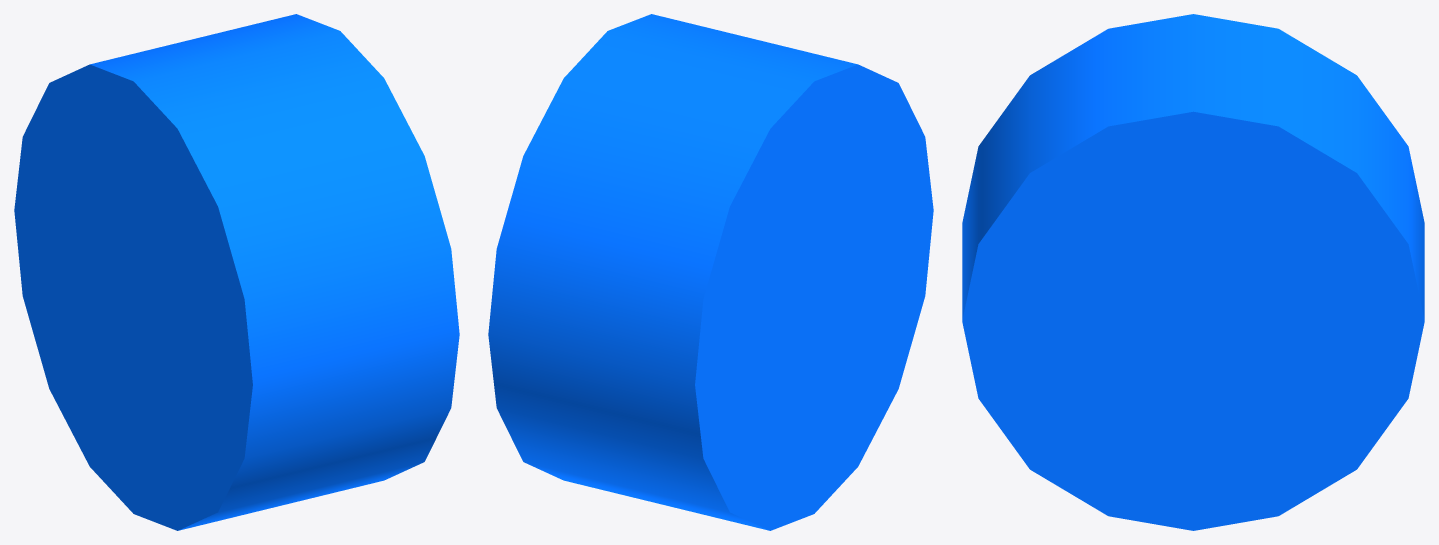
The model's file is V_Motor.dae.
3 views of the same model, side by side, from view 1: azimuth 30°, elevation 25°; view 2: azimuth 150°, elevation 25°; view 3: azimuth 270°, elevation 25° (orthographic). The views are drawn at different scales.
Visible parts, largest first — view 1: Brep; view 2: Brep; view 3: Brep.
Part boxes in pixels (x1,y1,x2,y2): Brep: (14, 14, 459, 530); Brep: (488, 14, 933, 530); Brep: (962, 14, 1424, 530).
Size of the model in its own units: 0.0375 by 0.075 by 0.075.
